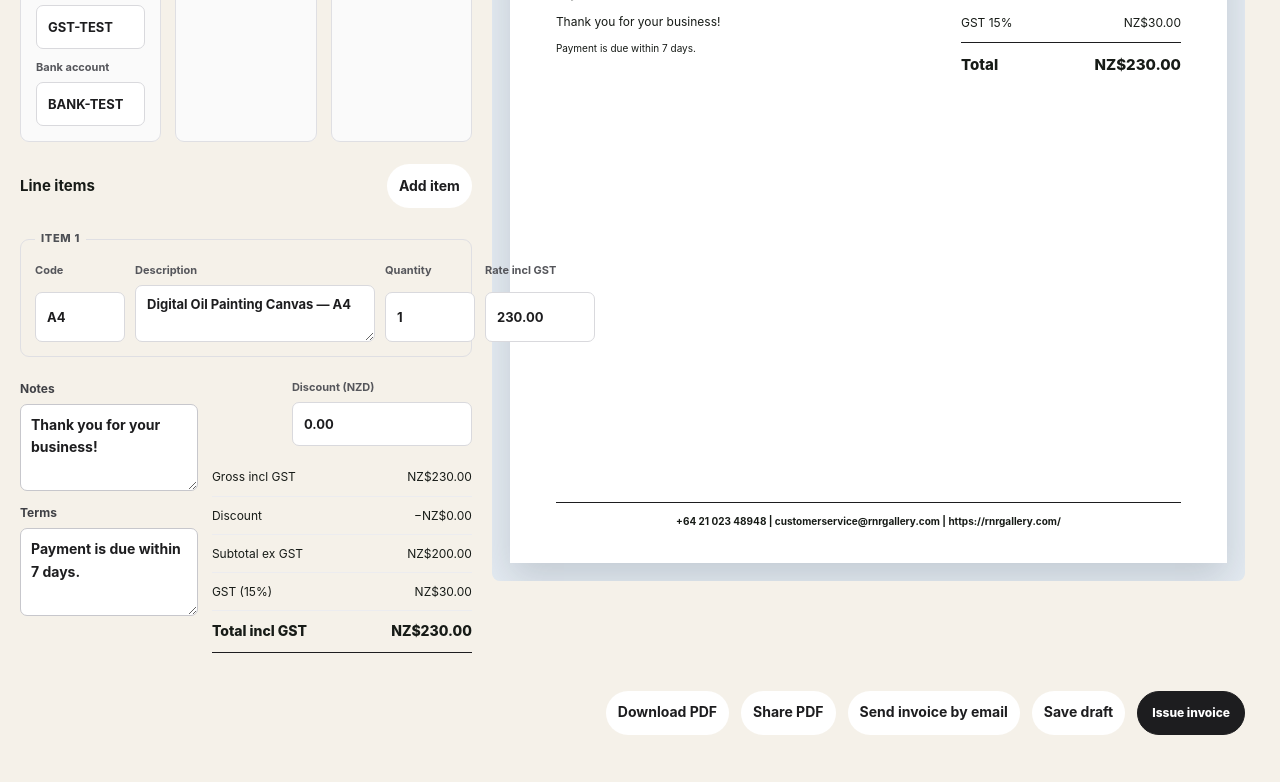
Test: InvoicePanel › issues a draft and locks the editor
(page scrolled)
Click the button "Issue invoice" at (1191, 713), box [1137,691,1245,735]
(page scrolled)
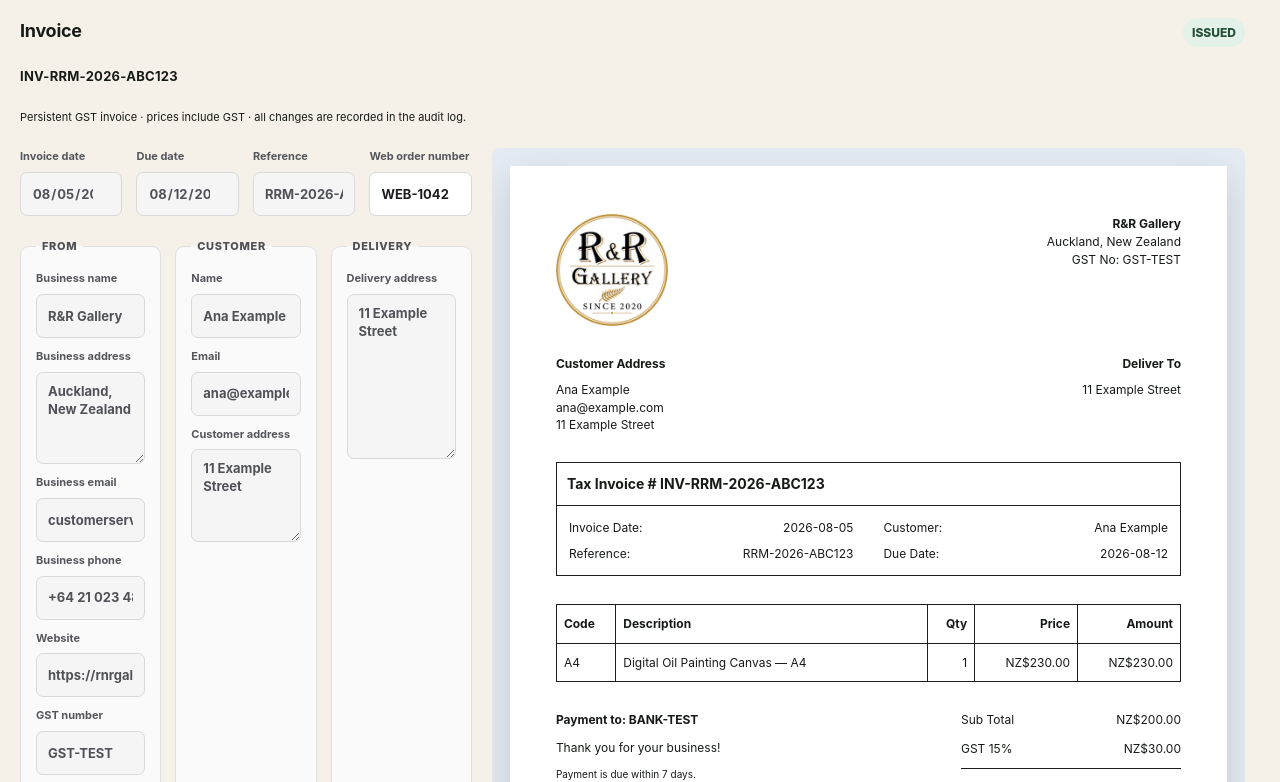
Now the text "Issued" is shown, box [1183,18,1245,47]
Now the date field labelled "Invoice date" is disabled, box [20,172,122,216]
